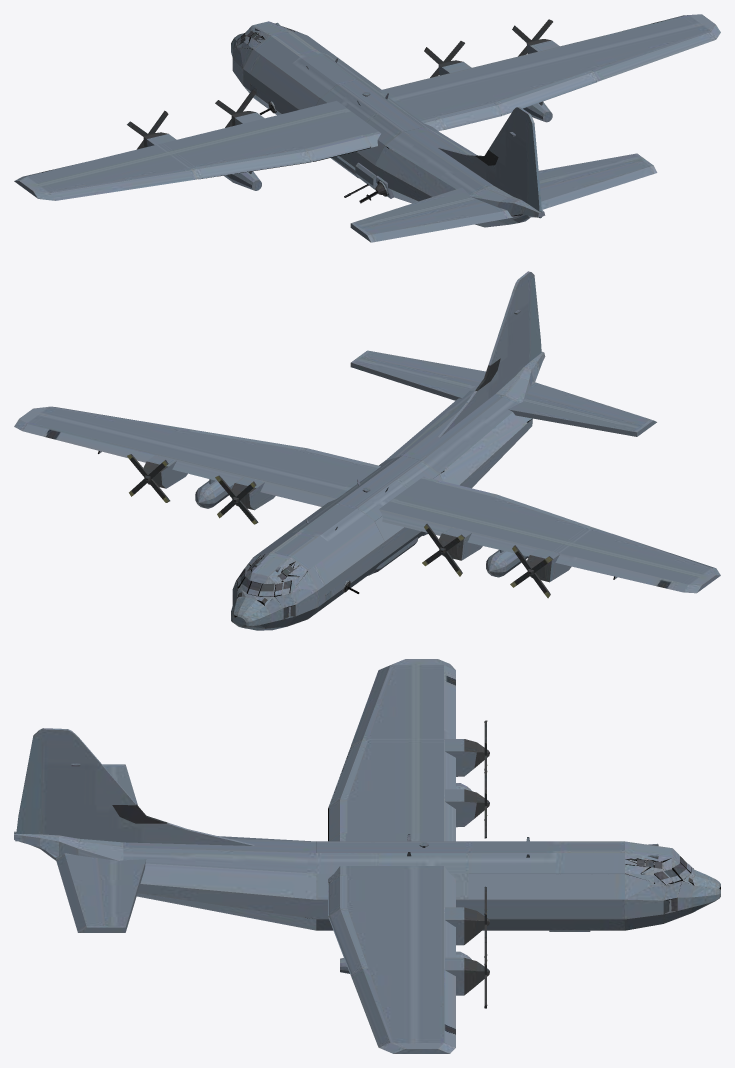
3 views of the same model, one above another, from view 1: azimuth 30°, elevation 25°; view 2: azimuth 150°, elevation 25°; view 3: azimuth 270°, elevation 25° (orthographic). The views are drawn at different scales.
Parts seen in each view (by area): view 1: ac130; view 2: ac130; view 3: ac130.
Boxes of the visible parts, x1,y1,x2,y2 form: ac130: [14, 14, 720, 242]; ac130: [14, 271, 720, 630]; ac130: [14, 659, 720, 1053].
Size of the model in its own units: 39.72 by 9.52 by 30.43.
Materials: 1 (1 with a texture image).
